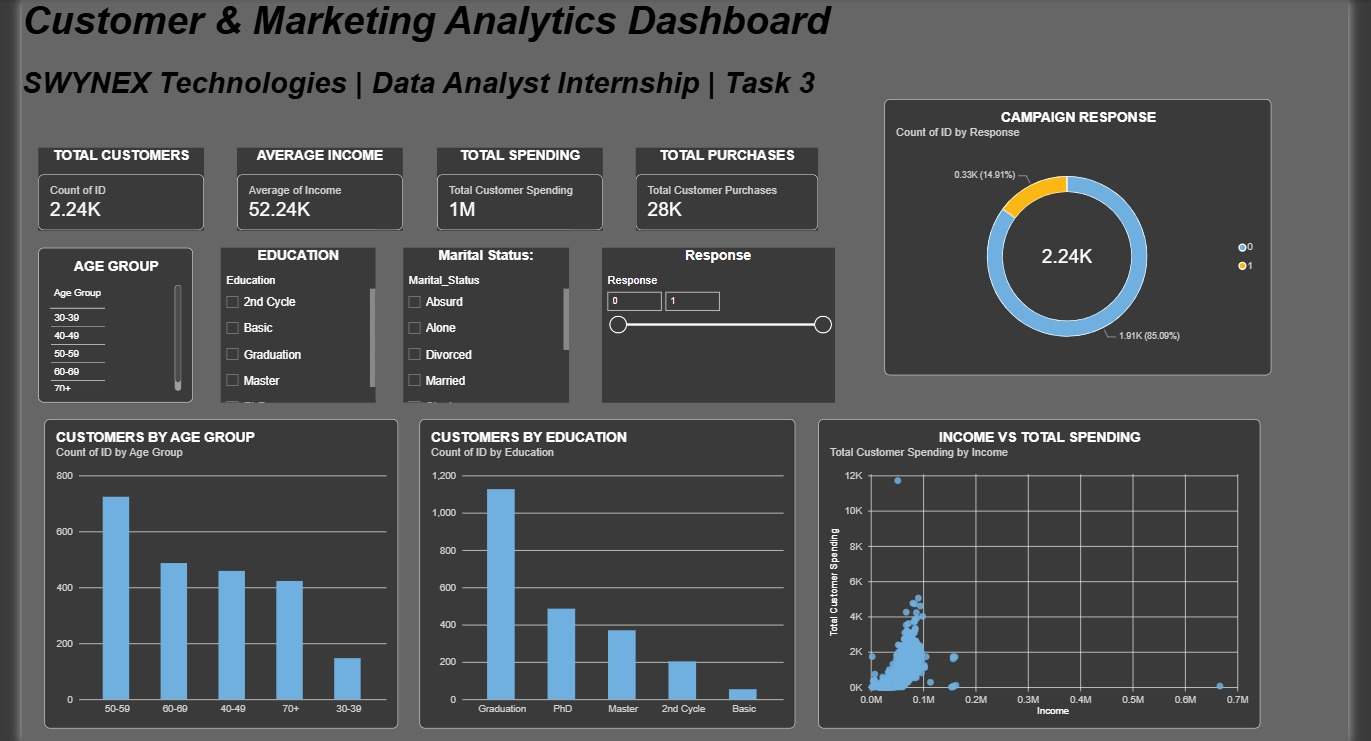

Layout of this report page (visuals, bound fields, positions):
{"tool":"powerbi","page":{"name":"Executive Overview","canvas":[1920,1080],"ordinal":0},"visuals":[{"type":"textbox","box":[0,0,1248,168],"z":0},{"type":"cardVisual","title":"TOTAL CUSTOMERS","fields":{"Data":["Count(cleaned_marketing_campaign.ID)"]},"box":[24,216,240,120],"z":1000},{"type":"cardVisual","title":"AVERAGE INCOME","fields":{"Data":["Avg(cleaned_marketing_campaign.Income)"]},"box":[312,216,240,120],"z":2000},{"type":"cardVisual","title":"TOTAL SPENDING","fields":{"Data":["cleaned_marketing_campaign.Total Customer Spending"]},"box":[600,216,240,120],"z":3000},{"type":"cardVisual","title":"TOTAL PURCHASES","fields":{"Data":["cleaned_marketing_campaign.Total Customer Purchases"]},"box":[888,216,264,120],"z":4000},{"type":"clusteredColumnChart","title":"CUSTOMERS BY AGE GROUP","fields":{"Category":["cleaned_marketing_campaign.Age Group"],"Y":["CountNonNull(cleaned_marketing_campaign.ID)"]},"box":[32,608,512,448],"z":5000},{"type":"clusteredColumnChart","title":"CUSTOMERS BY EDUCATION","fields":{"Category":["cleaned_marketing_campaign.Education"],"Y":["Count(cleaned_marketing_campaign.ID)"]},"box":[576,608,544,448],"z":6000},{"type":"donutChart","title":"CAMPAIGN RESPONSE","fields":{"Category":["cleaned_marketing_campaign.Response"],"Y":["Count(cleaned_marketing_campaign.ID)"]},"box":[1320,144,480,400],"z":7000},{"type":"scatterChart","title":"INCOME VS TOTAL SPENDING","fields":{"X":["cleaned_marketing_campaign.Income"],"Y":["cleaned_marketing_campaign.Total Customer Spending"]},"box":[1152,608,640,448],"z":8000},{"type":"slicer","title":"EDUCATION","fields":{"Values":["cleaned_marketing_campaign.Education"]},"box":[288,360,224,224],"z":9000},{"type":"slicer","title":"Marital Status:","fields":{"Values":["cleaned_marketing_campaign.Marital_Status"]},"box":[552,360,240,224],"z":10000},{"type":"slicer","title":"Response","fields":{"Values":["cleaned_marketing_campaign.Response"]},"box":[840,360,336,224],"z":11000},{"type":"tableEx","title":"AGE GROUP","fields":{"Values":["cleaned_marketing_campaign.Age Group"]},"box":[24,360,224,224],"z":12000}]}

Visuals, with their boxes on the page's 1920x1080 design canvas (x1, y1, x2, y2). These are canvas units, not pixel positions in the 1371x741 screenshot, which may show the page scaled, cropped or inside an application window:
textbox: [0,0,1248,168]
"TOTAL CUSTOMERS" cardVisual: [24,216,264,336]
"AVERAGE INCOME" cardVisual: [312,216,552,336]
"TOTAL SPENDING" cardVisual: [600,216,840,336]
"TOTAL PURCHASES" cardVisual: [888,216,1152,336]
"CUSTOMERS BY AGE GROUP" clusteredColumnChart: [32,608,544,1056]
"CUSTOMERS BY EDUCATION" clusteredColumnChart: [576,608,1120,1056]
"CAMPAIGN RESPONSE" donutChart: [1320,144,1800,544]
"INCOME VS TOTAL SPENDING" scatterChart: [1152,608,1792,1056]
"EDUCATION" slicer: [288,360,512,584]
"Marital Status:" slicer: [552,360,792,584]
"Response" slicer: [840,360,1176,584]
"AGE GROUP" tableEx: [24,360,248,584]
